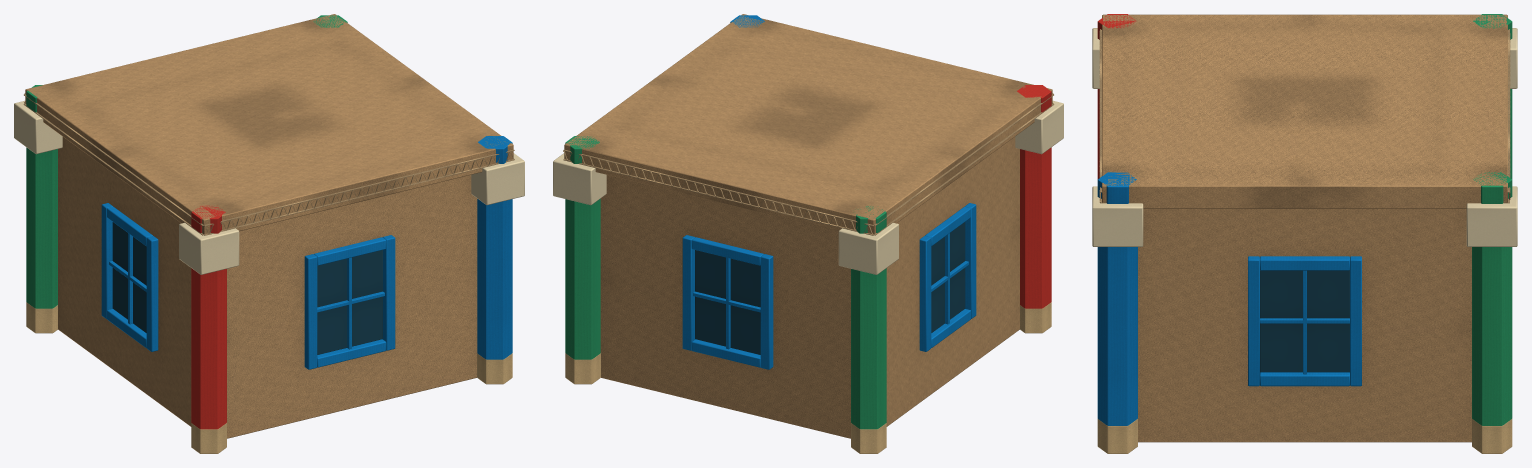
File: 3-pencil-supported-box-2-1.fbx
3 renders of one model, left to right at view 1: azimuth 30°, elevation 25°; view 2: azimuth 150°, elevation 25°; view 3: azimuth 270°, elevation 25°, orthographic. The views are drawn at different scales.
Parts seen in each view (by area): view 1: pencil-supported-box-2-1; view 2: pencil-supported-box-2-1; view 3: pencil-supported-box-2-1.
Boxes of the visible parts, <box> form: pencil-supported-box-2-1: <box>14,14,524,453</box>; pencil-supported-box-2-1: <box>553,14,1063,453</box>; pencil-supported-box-2-1: <box>1092,14,1517,453</box>.
Bounding box in the file's own units: 6700 × 4650 × 6700.
1 material, 1 textured.
